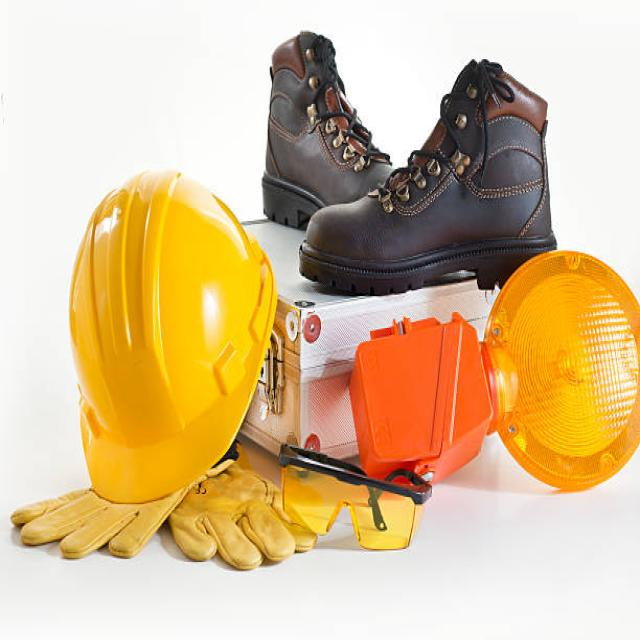Gloves: (167, 428, 326, 584), (8, 447, 187, 565)
helmet: (67, 167, 279, 509)
